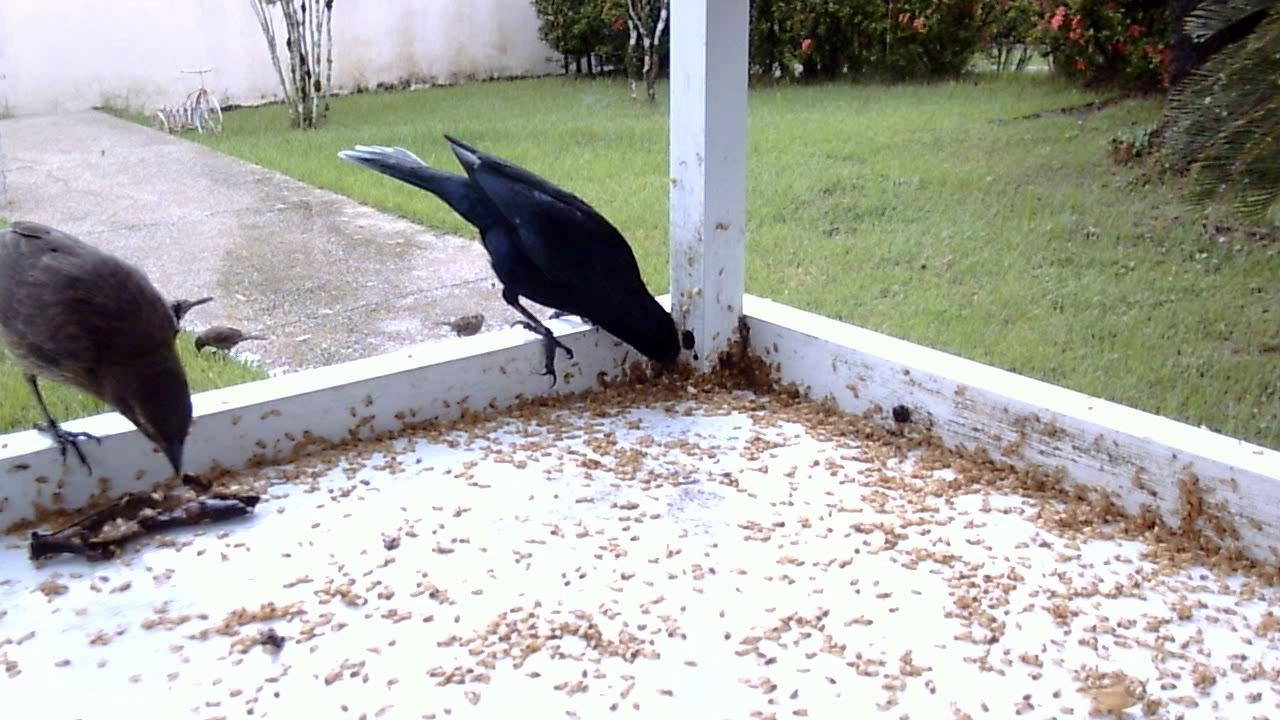chupim: (340, 132, 682, 398), (1, 204, 272, 508)
